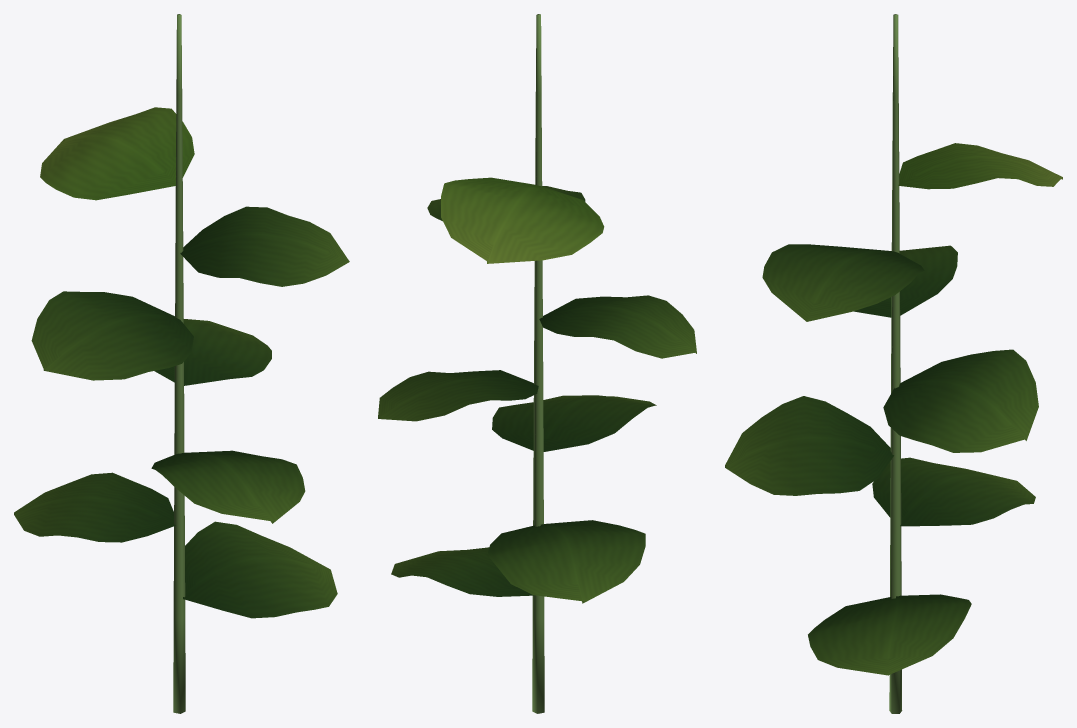
Rendered from sunflower-06-lod.glb.
3 views of the same model, side by side, from view 1: azimuth 30°, elevation 25°; view 2: azimuth 150°, elevation 25°; view 3: azimuth 270°, elevation 25° (orthographic).
Parts seen in each view (by area): view 1: sunflower_stage_06_leaf_veins.011, sunflower_stage_06_young_leaf.011, sunflower_stage_06_stem_fibres.011; view 2: sunflower_stage_06_leaf_veins.011, sunflower_stage_06_young_leaf.011, sunflower_stage_06_stem_fibres.011; view 3: sunflower_stage_06_leaf_veins.011, sunflower_stage_06_stem_fibres.011, sunflower_stage_06_young_leaf.011.
Boxes of the visible parts, bbox=[...] form: sunflower_stage_06_leaf_veins.011: bbox=[14, 206, 349, 618]; sunflower_stage_06_young_leaf.011: bbox=[40, 107, 194, 200]; sunflower_stage_06_stem_fibres.011: bbox=[173, 14, 185, 713]; sunflower_stage_06_leaf_veins.011: bbox=[378, 186, 696, 603]; sunflower_stage_06_young_leaf.011: bbox=[441, 177, 604, 263]; sunflower_stage_06_stem_fibres.011: bbox=[532, 14, 544, 713]; sunflower_stage_06_leaf_veins.011: bbox=[725, 244, 1038, 675]; sunflower_stage_06_stem_fibres.011: bbox=[889, 14, 902, 713]; sunflower_stage_06_young_leaf.011: bbox=[898, 143, 1062, 189].
Size of the model in its own units: 0.2032 by 0.4587 by 0.2017.
Materials: 3 (2 with a texture image).
